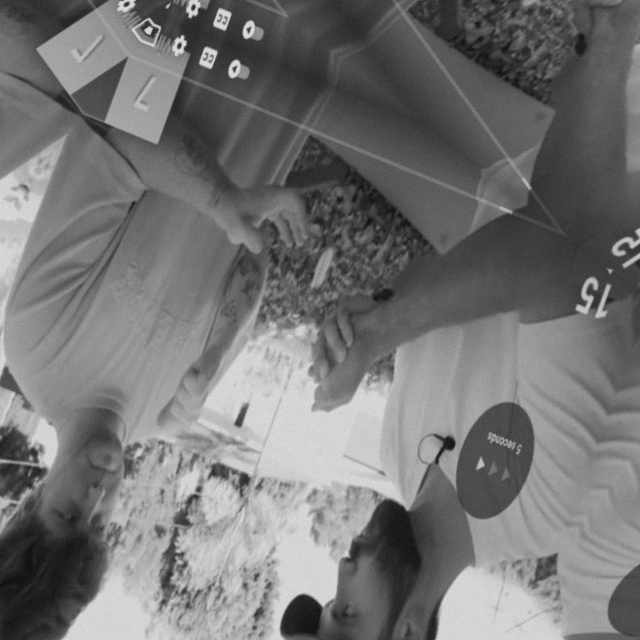Rock: (271, 288, 415, 439), (129, 331, 245, 453)
